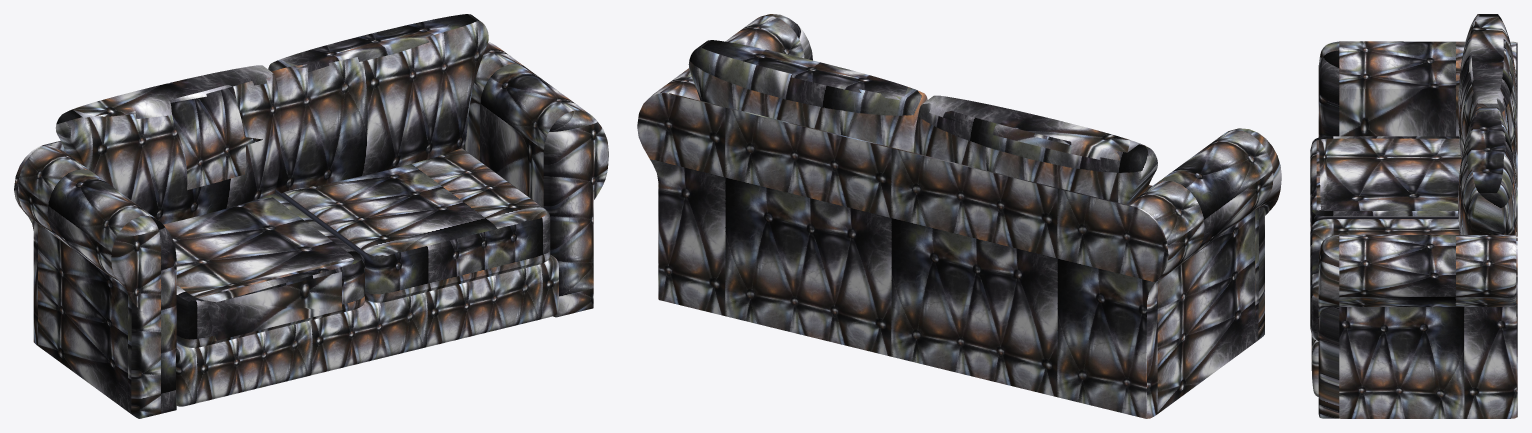
Rendered from sofa12.glb.
3 renders of one model, left to right at view 1: azimuth 30°, elevation 25°; view 2: azimuth 150°, elevation 25°; view 3: azimuth 270°, elevation 25°, orthographic. The views are drawn at different scales.
Parts seen in each view (by area): view 1: sofa4; view 2: sofa4; view 3: sofa4.
Boxes of the visible parts, left/top/right/bottom form: sofa4: left=14, top=14, right=608, bottom=418; sofa4: left=637, top=14, right=1281, bottom=418; sofa4: left=1310, top=14, right=1517, bottom=418.
Bounding box in the file's own units: 5.46 × 2.47 × 2.19.
1 material, 1 textured.
